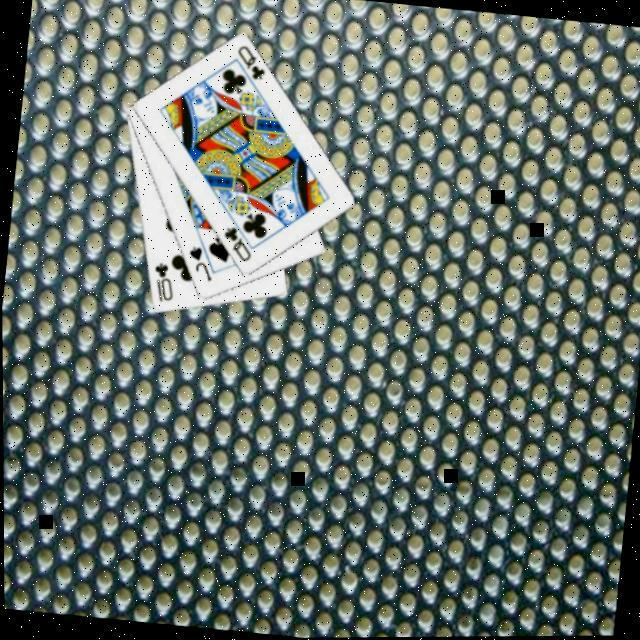10C: (148, 258, 180, 306)
JS: (184, 241, 218, 284)
QC: (232, 41, 272, 83), (220, 222, 258, 264)
